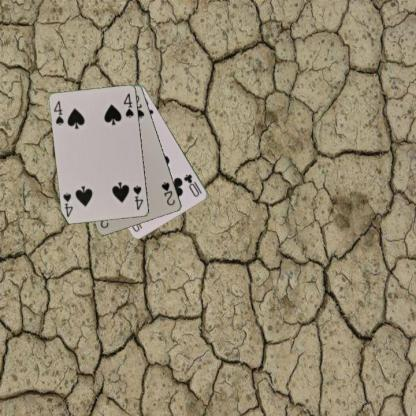10c: (182, 172, 204, 198)
2s: (158, 179, 176, 207)
4s: (130, 183, 144, 212), (52, 98, 66, 127)
